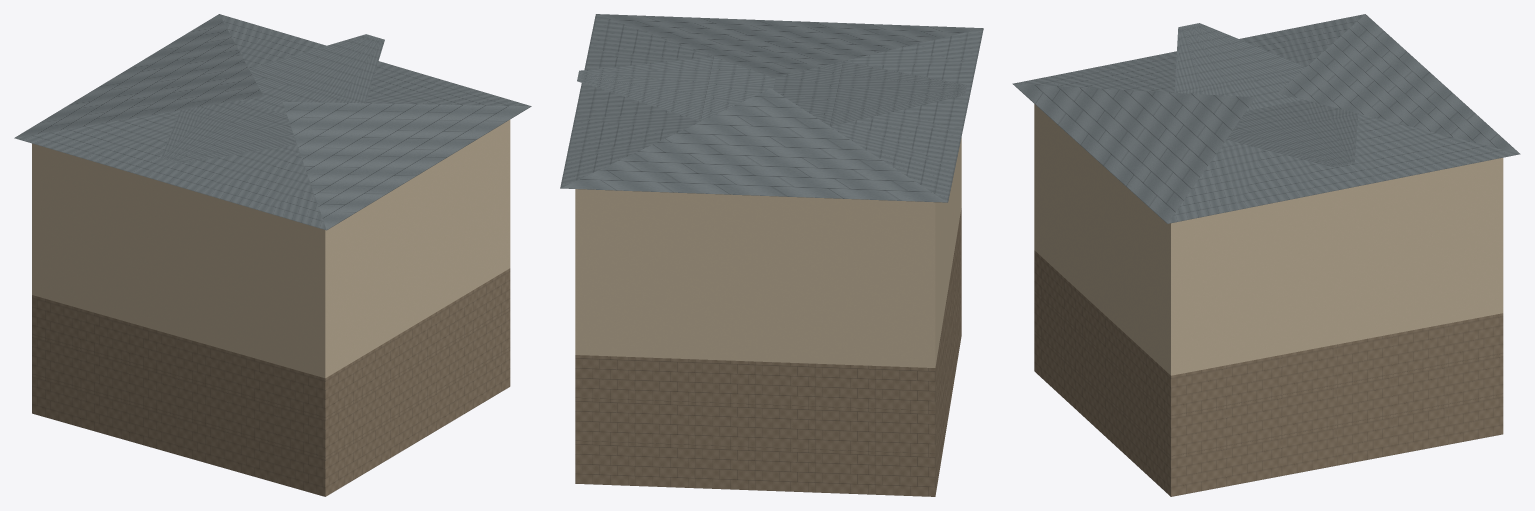
Rendered from bld_c21_31_378.gltf.
The picture shows the model from 3 angles, left to right: view 1: azimuth 30°, elevation 25°; view 2: azimuth 150°, elevation 25°; view 3: azimuth 270°, elevation 25°; orthographic projection. The views are drawn at different scales.
Parts seen in each view (by area): view 1: bld_c21_31_378; view 2: bld_c21_31_378; view 3: bld_c21_31_378.
Boxes of the visible parts, bbox=[...] form: bld_c21_31_378: bbox=[14, 14, 531, 496]; bld_c21_31_378: bbox=[560, 14, 983, 496]; bld_c21_31_378: bbox=[1012, 14, 1520, 496].
Size of the model in its own units: 18.95 by 12.9 by 19.38.
Materials: 3 (3 with a texture image).
